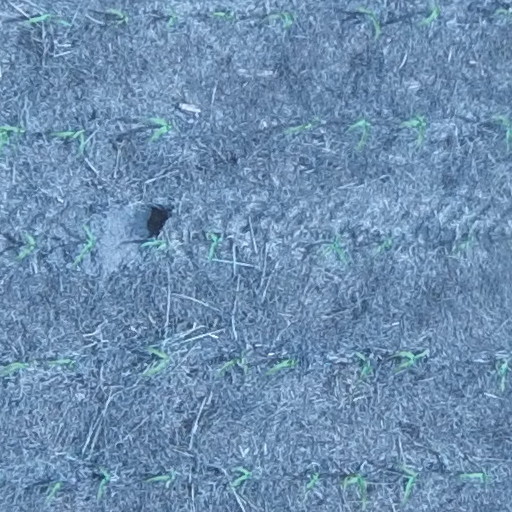planta: (399, 108, 431, 147), (71, 223, 97, 270), (338, 471, 368, 510), (140, 343, 171, 378), (49, 128, 87, 155), (346, 115, 373, 152), (319, 233, 350, 265), (216, 350, 250, 379), (144, 113, 174, 144), (356, 4, 382, 37), (397, 462, 418, 502), (12, 231, 37, 263), (393, 349, 426, 373), (283, 116, 320, 136), (205, 228, 224, 264), (264, 357, 298, 377), (228, 464, 254, 490), (456, 469, 492, 487), (353, 352, 372, 385), (417, 1, 441, 27), (267, 11, 298, 31), (493, 357, 510, 390), (95, 466, 111, 501), (142, 237, 171, 256), (146, 469, 177, 484), (47, 357, 80, 371), (44, 478, 62, 502), (374, 235, 394, 255), (109, 6, 131, 24), (456, 234, 476, 252), (211, 8, 234, 23), (165, 4, 178, 29), (305, 471, 319, 491), (28, 13, 53, 23), (493, 8, 510, 19)
